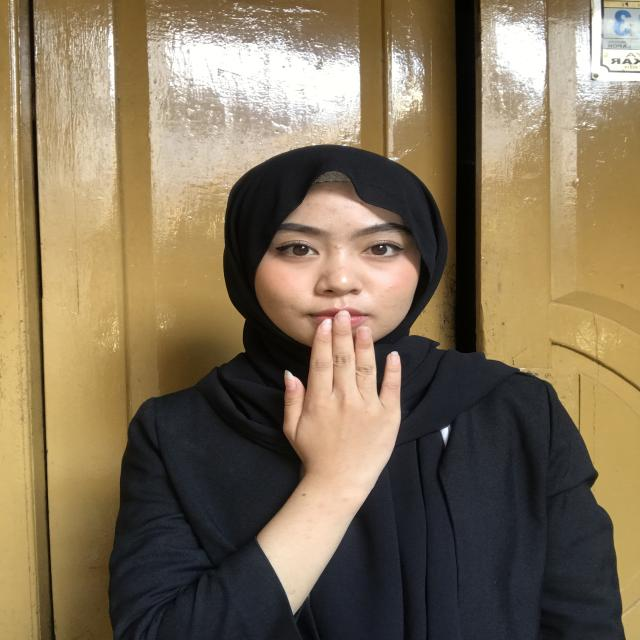ganteng: (248, 309, 428, 491)
